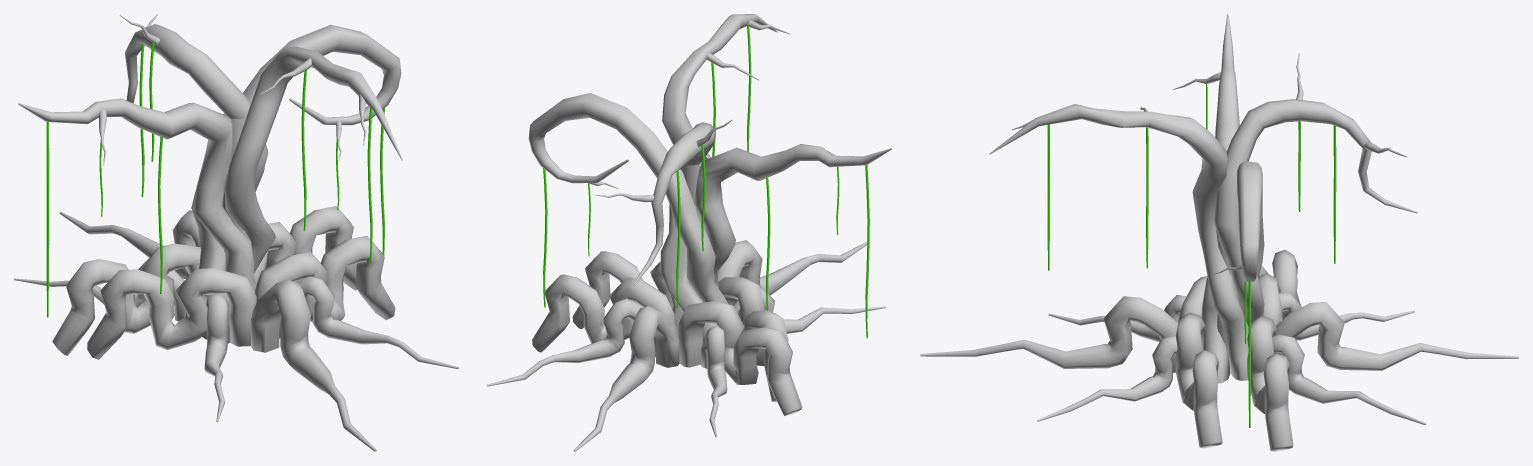
File: Plants_Mutant.fbx
3 renders of one model, left to right at view 1: azimuth 30°, elevation 25°; view 2: azimuth 150°, elevation 25°; view 3: azimuth 270°, elevation 25°, orthographic. The views are drawn at different scales.
Visible parts, largest first — view 1: Plants, Lianas; view 2: Plants, Lianas; view 3: Plants, Lianas.
Part boxes in pixels (x1,y1,x2,y2): Plants: [14, 14, 458, 451]; Lianas: [46, 42, 384, 317]; Plants: [487, 14, 891, 451]; Lianas: [543, 26, 869, 338]; Plants: [920, 14, 1518, 451]; Lianas: [1047, 84, 1336, 427].
Bounding box in the file's own units: 547 × 427 × 775.
